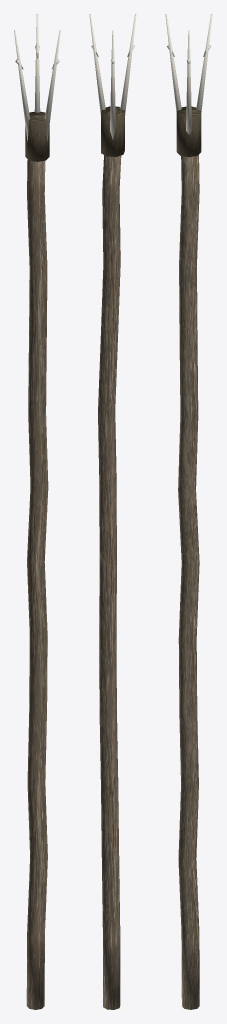
File: SM_Item_fishing_spear.gltf
The picture shows the model from 3 angles, left to right: view 1: azimuth 90°, elevation 25°; view 2: azimuth 150°, elevation 25°; view 3: azimuth 270°, elevation 25°; orthographic projection.
Visible parts, largest first — view 1: SM_Item_fishing_spear; view 2: SM_Item_fishing_spear; view 3: SM_Item_fishing_spear.
Boxes of the visible parts, x1,y1,x2,y2 form: SM_Item_fishing_spear: (14,14,60,1009); SM_Item_fishing_spear: (89,14,136,1009); SM_Item_fishing_spear: (165,14,212,1009).
Size of the model in its own units: 0.0735 by 1.94 by 0.084.
3 materials, 2 textured.
